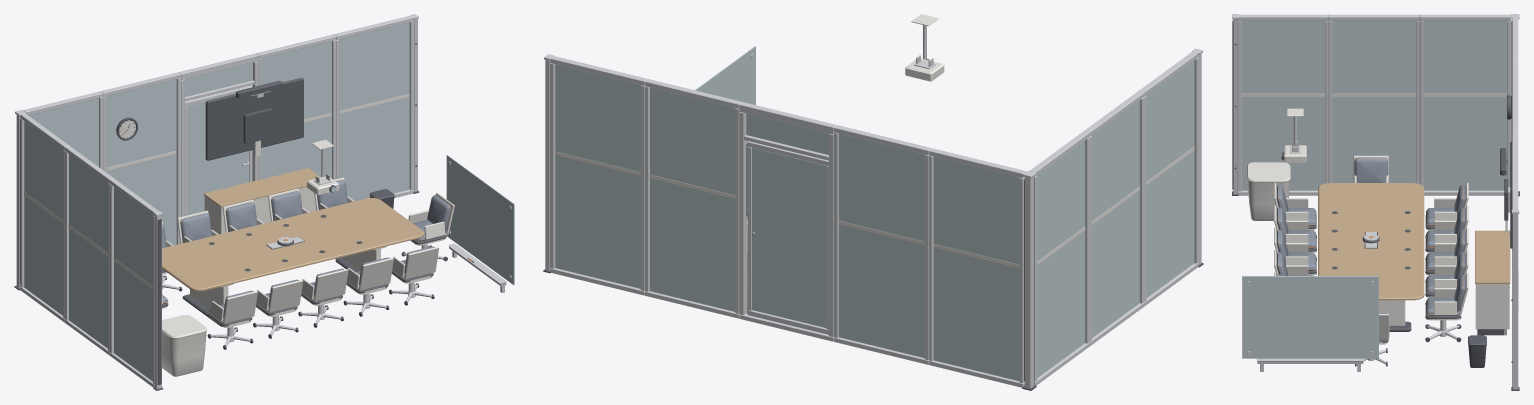
Rendered from downtown-office-interiors-glazed-boardroom-5c7c7a97__17067.glb.
3 views of the same model, side by side, from view 1: azimuth 30°, elevation 25°; view 2: azimuth 150°, elevation 25°; view 3: azimuth 270°, elevation 25° (orthographic). The views are drawn at different scales.
Parts seen in each view (by area): view 1: 011-boardroom-table-12/0, 005-glazed-partition-module/1, 002-glazed-partition-module/1, 007-glazed-partition-module/1, 008-glazed-partition-module/1, 009-glazed-partition-module/1, 004-glazed-partition-module/1, 025-meeting-room-wall-screen/0, 029-glass-writing-wall/0, 003-glazed-partition-door-module/partition-door/glass, 001-glazed-partition-module/1, 030-floor-planter-large/0 (+31 smaller); view 2: 001-glazed-partition-module/1, 002-glazed-partition-module/1, 005-glazed-partition-module/1, 004-glazed-partition-module/1, 003-glazed-partition-door-module/partition-door/glass, 009-glazed-partition-module/1, 008-glazed-partition-module/1, 007-glazed-partition-module/1, 003-glazed-partition-door-module/0, 001-glazed-partition-module/0, 004-glazed-partition-module/0, 005-glazed-partition-module/0 (+11 smaller); view 3: 007-glazed-partition-module/1, 008-glazed-partition-module/1, 009-glazed-partition-module/1, 029-glass-writing-wall/0, 011-boardroom-table-12/0, 007-glazed-partition-module/0, 009-glazed-partition-module/0, 008-glazed-partition-module/0, 030-floor-planter-large/0, 024-credenza-2-door/2, 024-credenza-2-door/0, 006-partition-end-post/0 (+36 smaller).
Boxes of the visible parts, x1=… form: 011-boardroom-table-12/0: x1=162, y1=198, x2=424, y2=291; 005-glazed-partition-module/1: x1=339, y1=22, x2=409, y2=201; 002-glazed-partition-module/1: x1=106, y1=79, x2=176, y2=245; 007-glazed-partition-module/1: x1=24, y1=121, x2=63, y2=315; 008-glazed-partition-module/1: x1=69, y1=154, x2=108, y2=348; 009-glazed-partition-module/1: x1=114, y1=187, x2=152, y2=381; 004-glazed-partition-module/1: x1=262, y1=41, x2=331, y2=179; 025-meeting-room-wall-screen/0: x1=205, y1=77, x2=303, y2=160; 029-glass-writing-wall/0: x1=446, y1=155, x2=514, y2=284; 003-glazed-partition-door-module/partition-door/glass: x1=187, y1=102, x2=248, y2=215; 001-glazed-partition-module/1: x1=29, y1=98, x2=98, y2=166; 030-floor-planter-large/0: x1=162, y1=315, x2=206, y2=376; 001-glazed-partition-module/1: x1=933, y1=157, x2=1019, y2=380; 002-glazed-partition-module/1: x1=839, y1=133, x2=924, y2=357; 005-glazed-partition-module/1: x1=555, y1=64, x2=640, y2=288; 004-glazed-partition-module/1: x1=650, y1=87, x2=735, y2=311; 003-glazed-partition-door-module/partition-door/glass: x1=752, y1=148, x2=826, y2=327; 009-glazed-partition-module/1: x1=1146, y1=61, x2=1194, y2=297; 008-glazed-partition-module/1: x1=1091, y1=101, x2=1139, y2=337; 007-glazed-partition-module/1: x1=1037, y1=141, x2=1084, y2=377; 003-glazed-partition-door-module/0: x1=739, y1=102, x2=836, y2=341; 001-glazed-partition-module/0: x1=928, y1=148, x2=1026, y2=387; 004-glazed-partition-module/0: x1=644, y1=79, x2=741, y2=318; 005-glazed-partition-module/0: x1=550, y1=56, x2=647, y2=295; 007-glazed-partition-module/1: x1=1423, y1=21, x2=1506, y2=190; 008-glazed-partition-module/1: x1=1332, y1=21, x2=1415, y2=183; 009-glazed-partition-module/1: x1=1241, y1=21, x2=1324, y2=190; 029-glass-writing-wall/0: x1=1242, y1=276, x2=1378, y2=358; 011-boardroom-table-12/0: x1=1318, y1=183, x2=1424, y2=300; 007-glazed-partition-module/0: x1=1419, y1=14, x2=1510, y2=195; 009-glazed-partition-module/0: x1=1237, y1=14, x2=1328, y2=195; 008-glazed-partition-module/0: x1=1328, y1=14, x2=1419, y2=183; 030-floor-planter-large/0: x1=1247, y1=162, x2=1290, y2=220; 024-credenza-2-door/2: x1=1475, y1=230, x2=1510, y2=283; 024-credenza-2-door/0: x1=1475, y1=284, x2=1509, y2=329; 006-partition-end-post/0: x1=1511, y1=209, x2=1519, y2=389.
Bounding box in the file's own units: 6.2 × 2.6 × 3.8.
